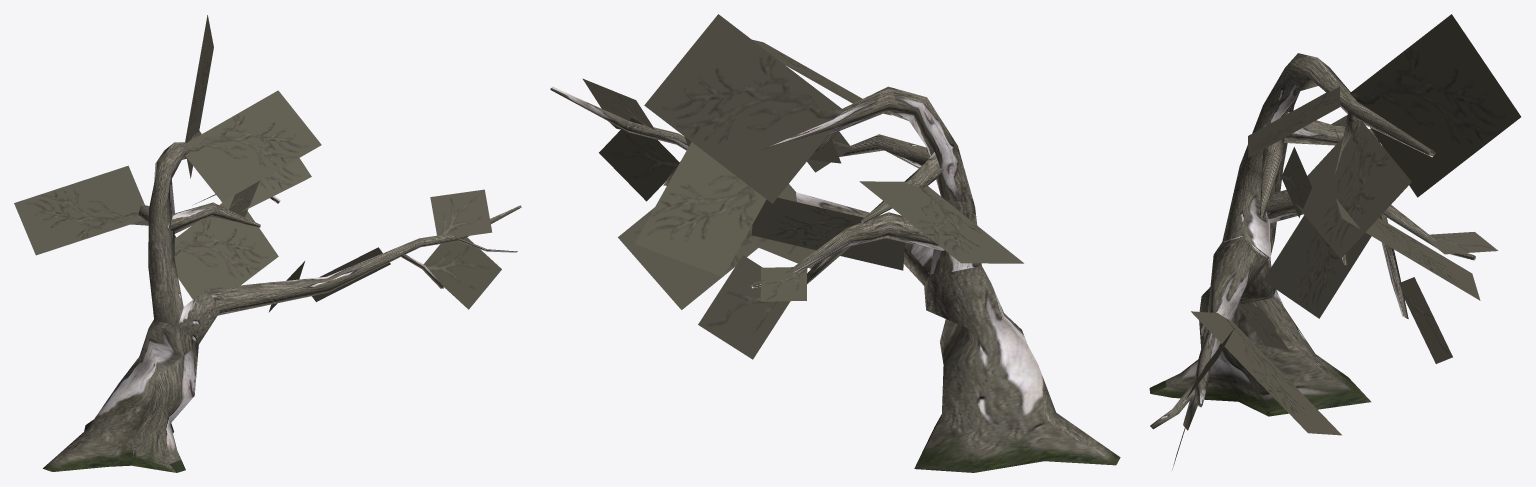
File: big dead tree_01.fbx
3 views of the same model, side by side, from view 1: azimuth 30°, elevation 25°; view 2: azimuth 150°, elevation 25°; view 3: azimuth 270°, elevation 25° (orthographic). The views are drawn at different scales.
Parts seen in each view (by area): view 1: polySurface790; view 2: polySurface790; view 3: polySurface790.
Boxes of the visible parts, <box> form: polySurface790: <box>14,15,521,472</box>; polySurface790: <box>550,14,1120,472</box>; polySurface790: <box>1149,14,1520,469</box>.
Bounding box in the file's own units: 14.37 × 10.35 × 7.4.
